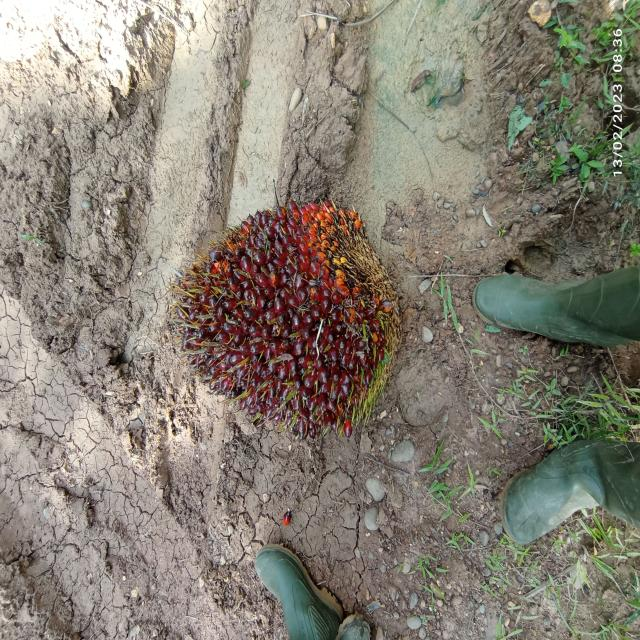fraksi 1: (133, 133, 442, 468)
